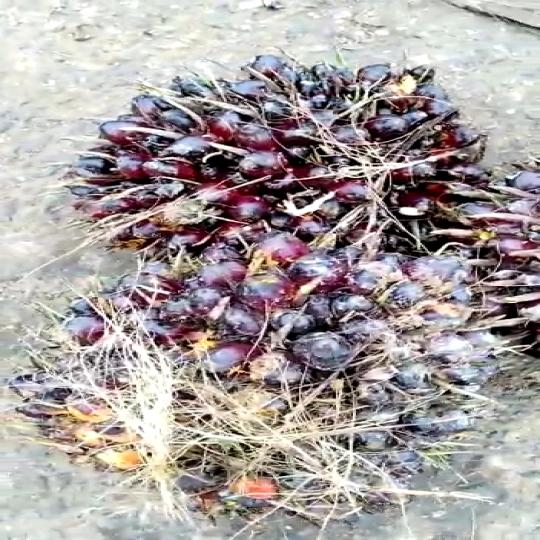kurang masak: (23, 230, 504, 525), (65, 53, 475, 260)
